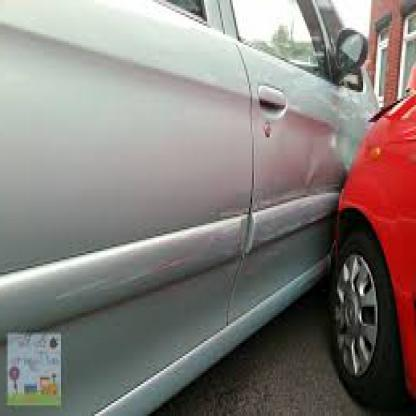dent: (292, 102, 352, 196)
